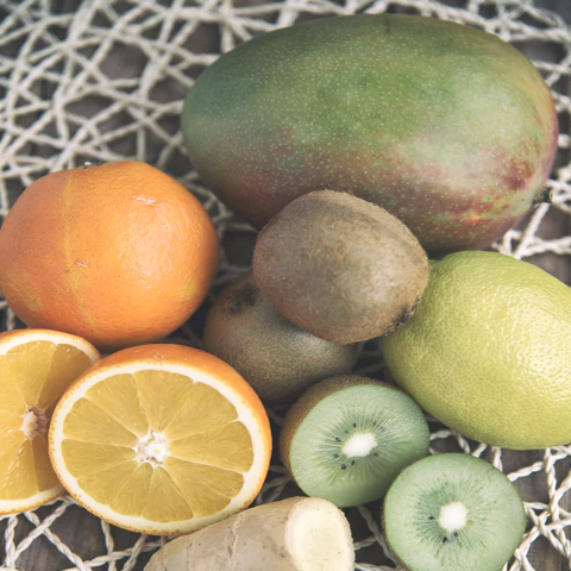kiwi: (140, 9, 571, 251), (254, 183, 427, 346)
orange: (0, 154, 226, 343)
